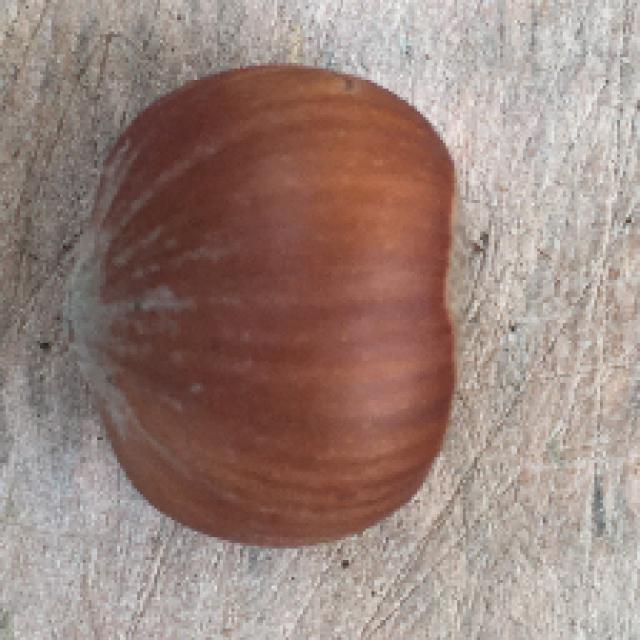damagedHazelnut: (61, 59, 472, 551)
